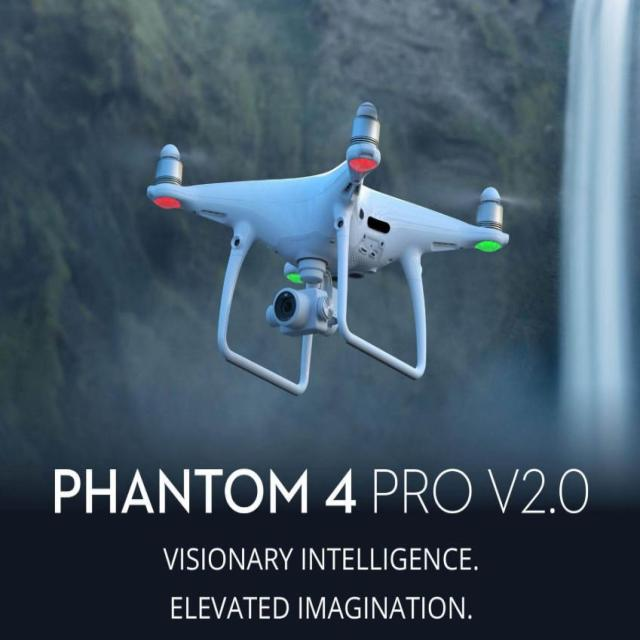drone: (132, 104, 533, 328)
